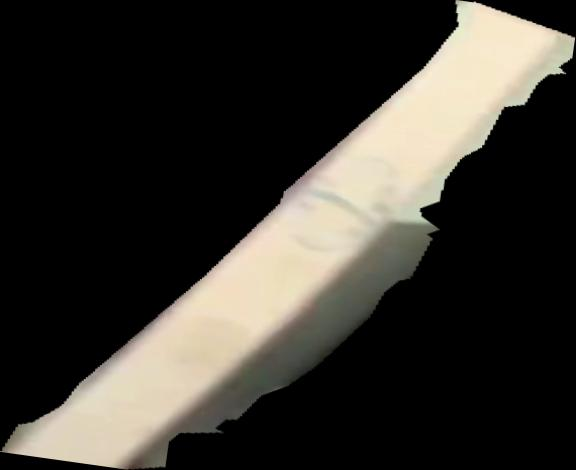backward: (1, 1, 576, 470)
